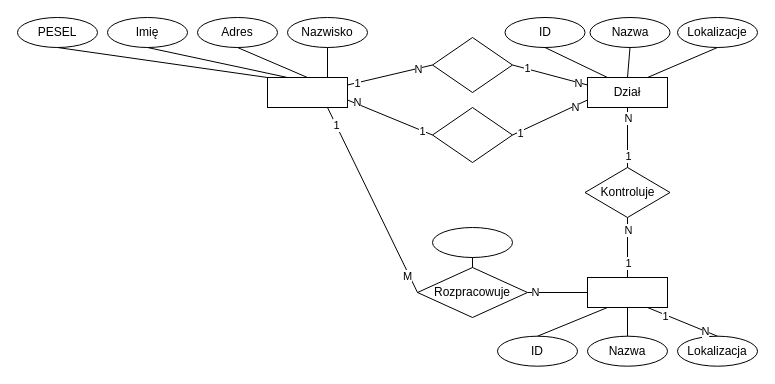
Image size: 775x384. Some labels were removed from this diagram. The box of each missing label's shape, as (x1, y1, x2, y2) in pixels:
Godziny: (432, 226, 512, 258)
Pracownik: (266, 76, 348, 108)
Projekt: (586, 276, 668, 308)
Przypisany: (432, 36, 512, 92)
Zarządza: (432, 106, 512, 162)
